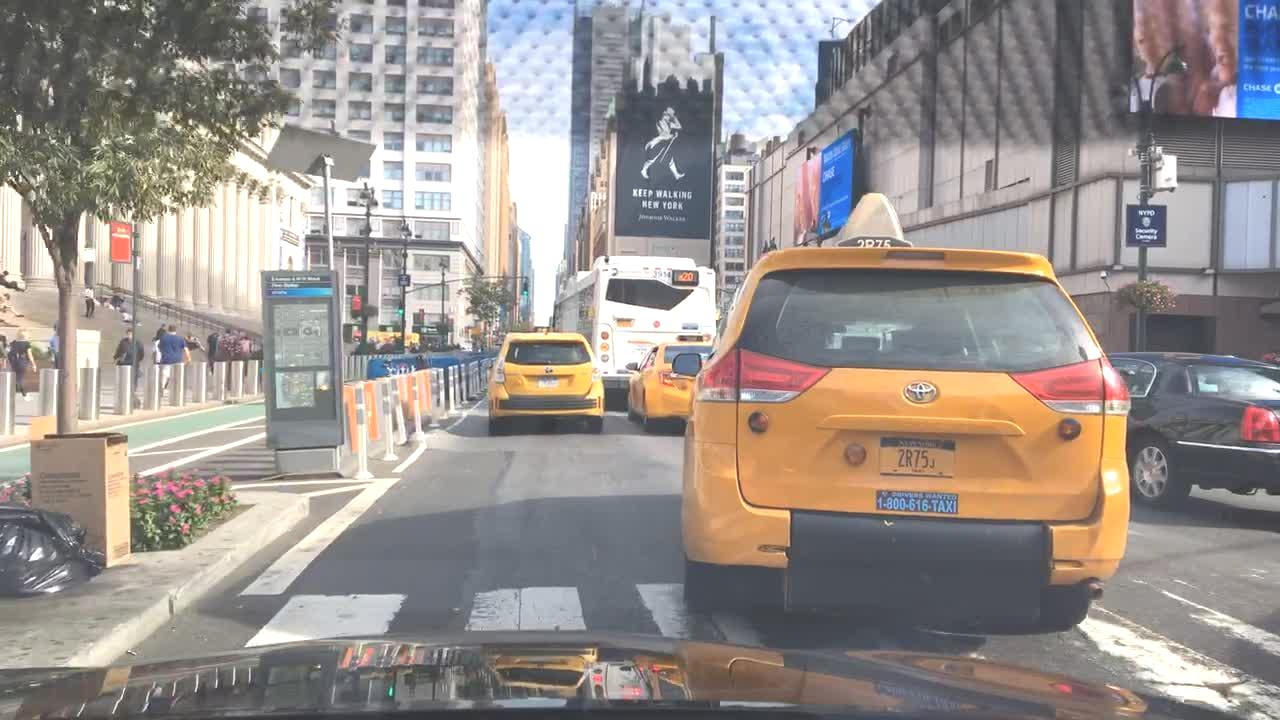Toyota: (892, 373, 955, 413), (543, 364, 554, 375)
